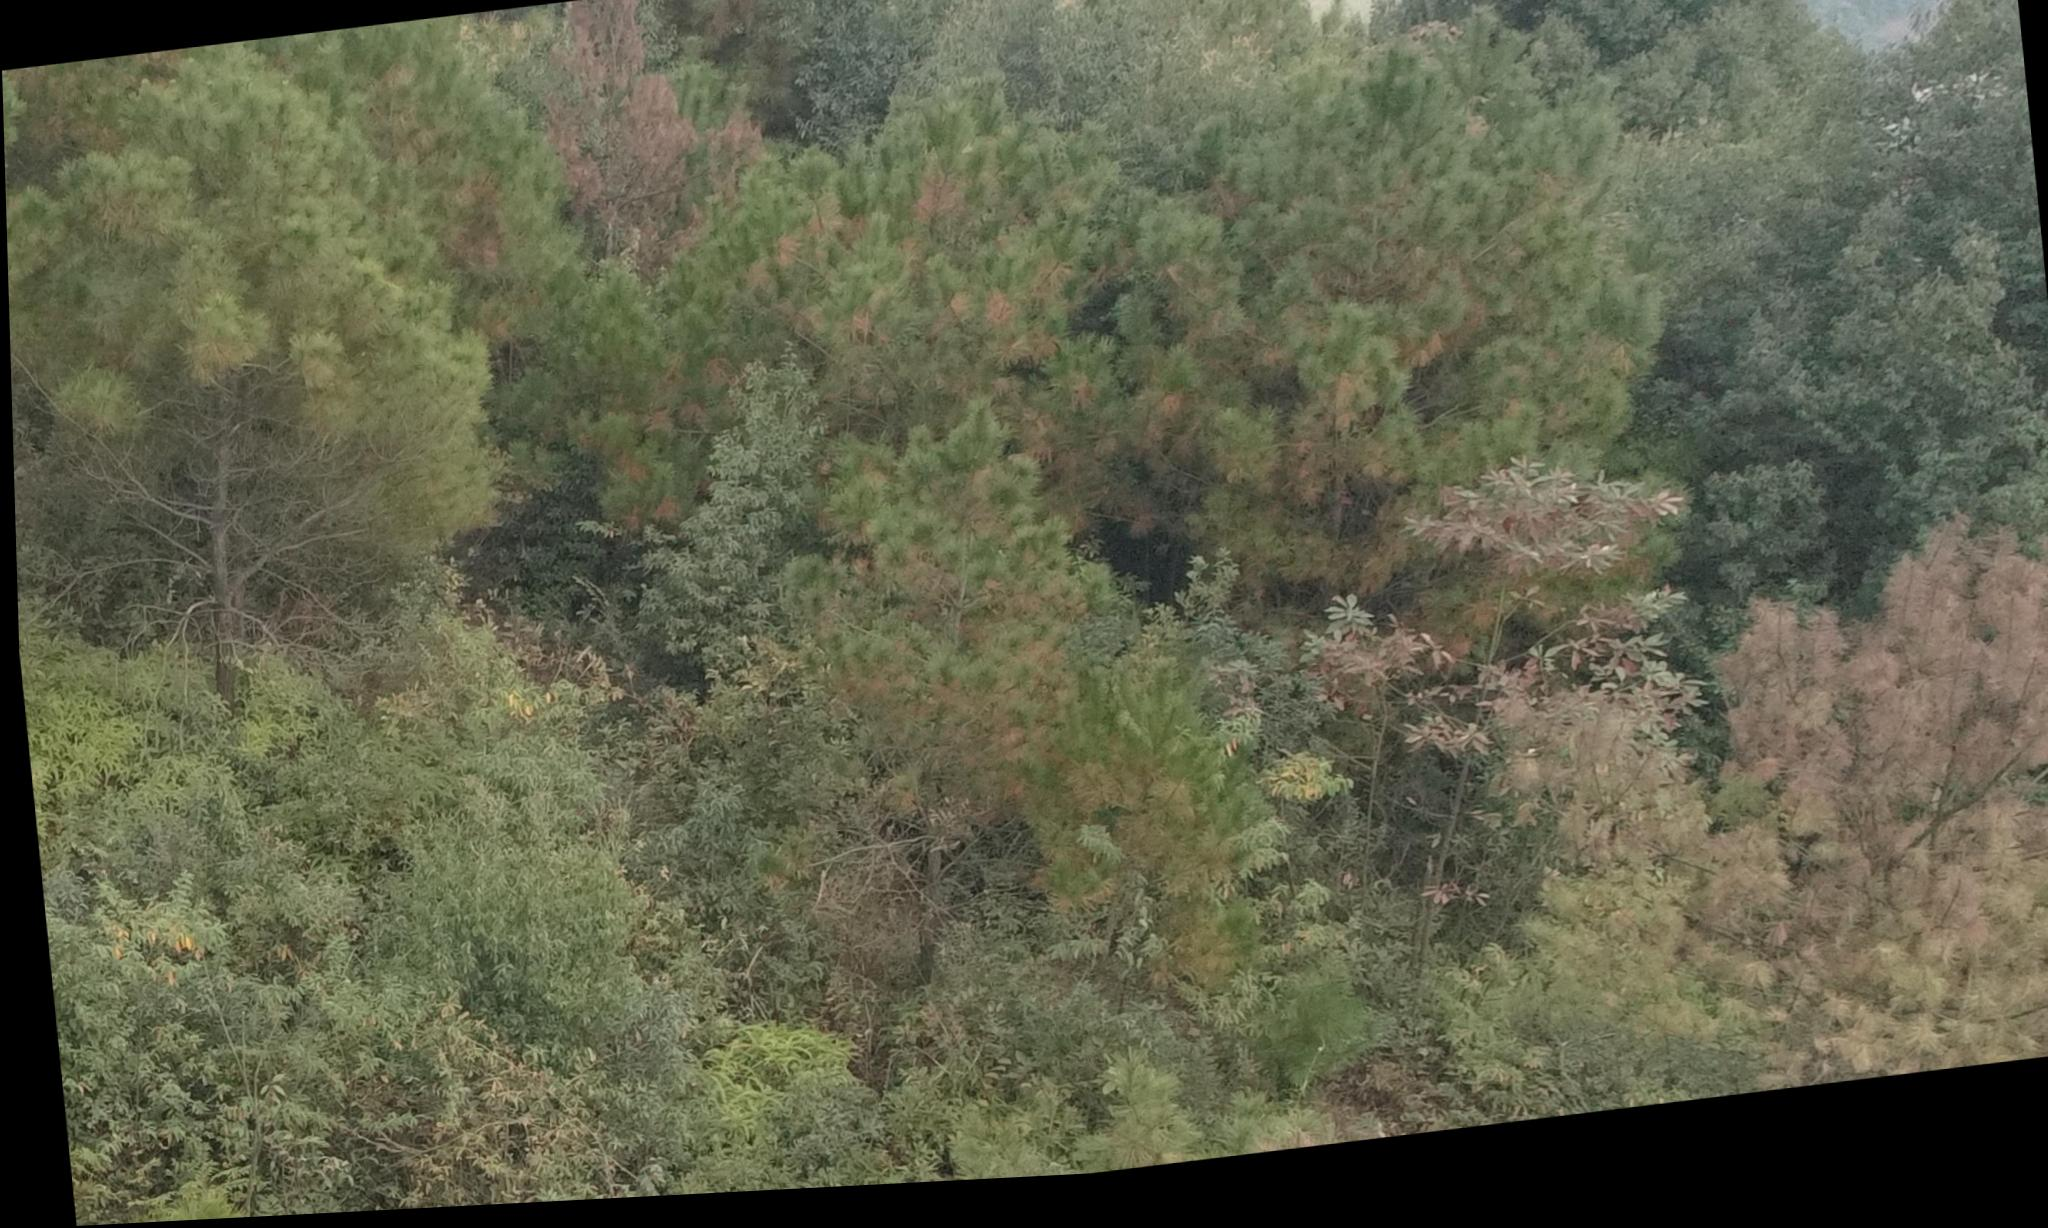heavy: (1645, 535, 2048, 1117), (532, 0, 776, 298)
